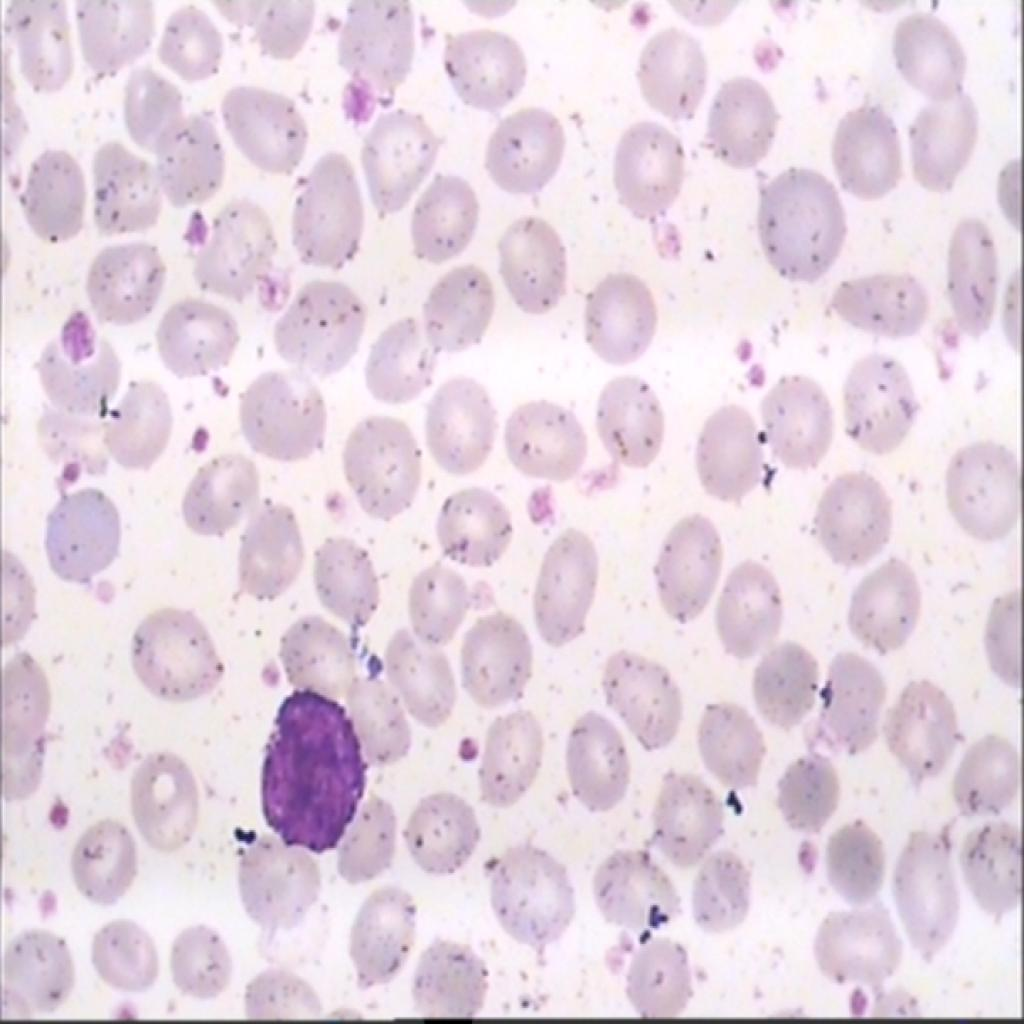Basofil: (253, 683, 374, 864)
Platelet: (333, 69, 381, 139), (746, 23, 794, 91), (637, 198, 683, 268), (505, 476, 560, 532), (50, 311, 96, 366), (41, 442, 88, 492), (445, 720, 485, 770), (43, 788, 81, 838), (919, 345, 953, 398), (253, 645, 287, 697), (321, 473, 357, 521), (789, 832, 821, 884), (180, 412, 214, 458), (176, 208, 212, 249), (731, 318, 759, 368), (926, 313, 964, 348), (620, 0, 659, 34), (28, 876, 57, 918), (744, 359, 771, 397), (845, 985, 872, 1020)
